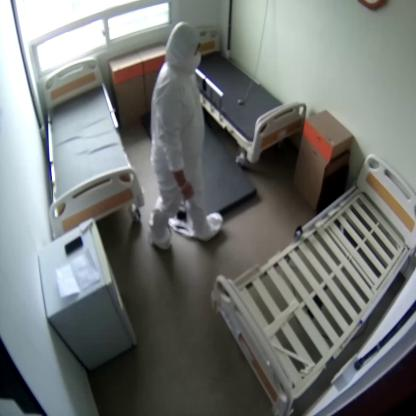Person: (149, 20, 222, 250)
